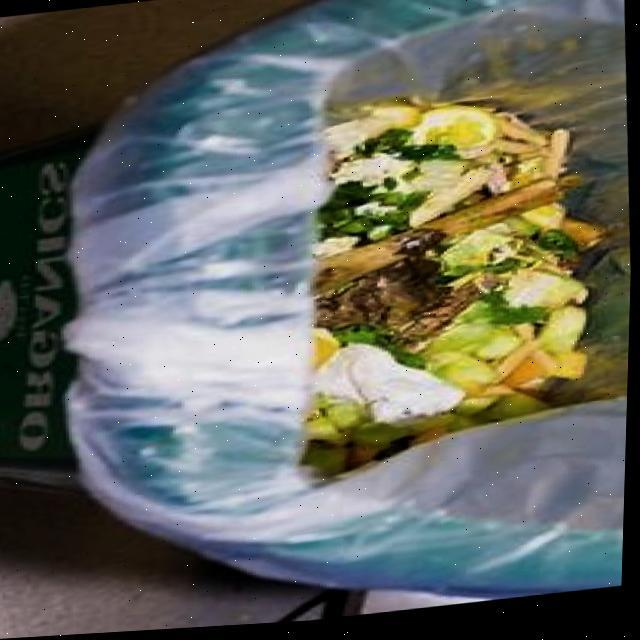Garbage: (66, 0, 632, 606)
Plastic: (66, 0, 631, 605)
